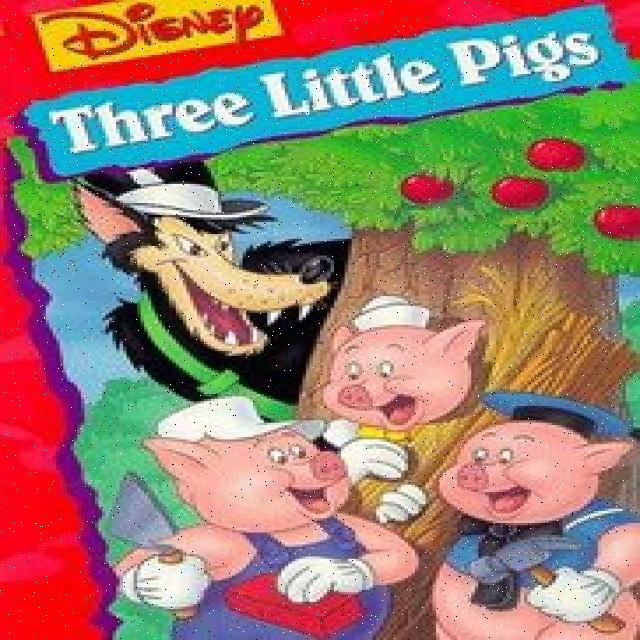movie-judul: (25, 4, 640, 180)
picture: (0, 161, 640, 640)
